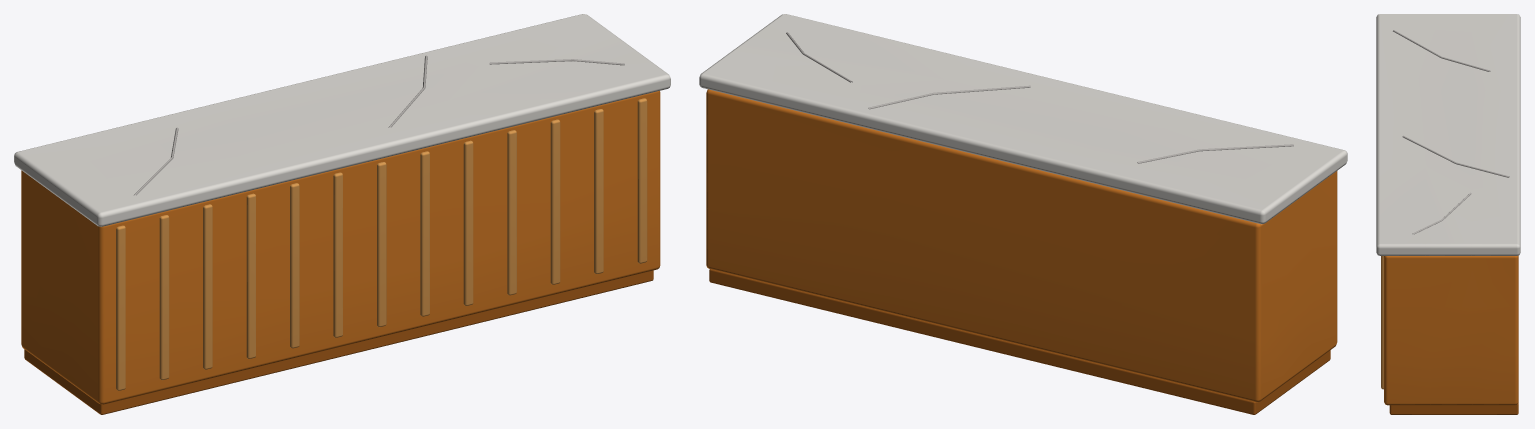
Rendered from furn_counter_boutique.glb.
3 renders of one model, left to right at view 1: azimuth 30°, elevation 25°; view 2: azimuth 150°, elevation 25°; view 3: azimuth 270°, elevation 25°, orthographic. The views are drawn at different scales.
Visible parts, largest first — view 1: furn_counter_boutique_main; view 2: furn_counter_boutique_main; view 3: furn_counter_boutique_main.
Part boxes in pixels (x1,y1,x2,y2): furn_counter_boutique_main: (14, 14, 670, 414); furn_counter_boutique_main: (699, 14, 1347, 414); furn_counter_boutique_main: (1376, 14, 1520, 414).
Size of the model in its own units: 2.86 by 1.01 by 0.75.
